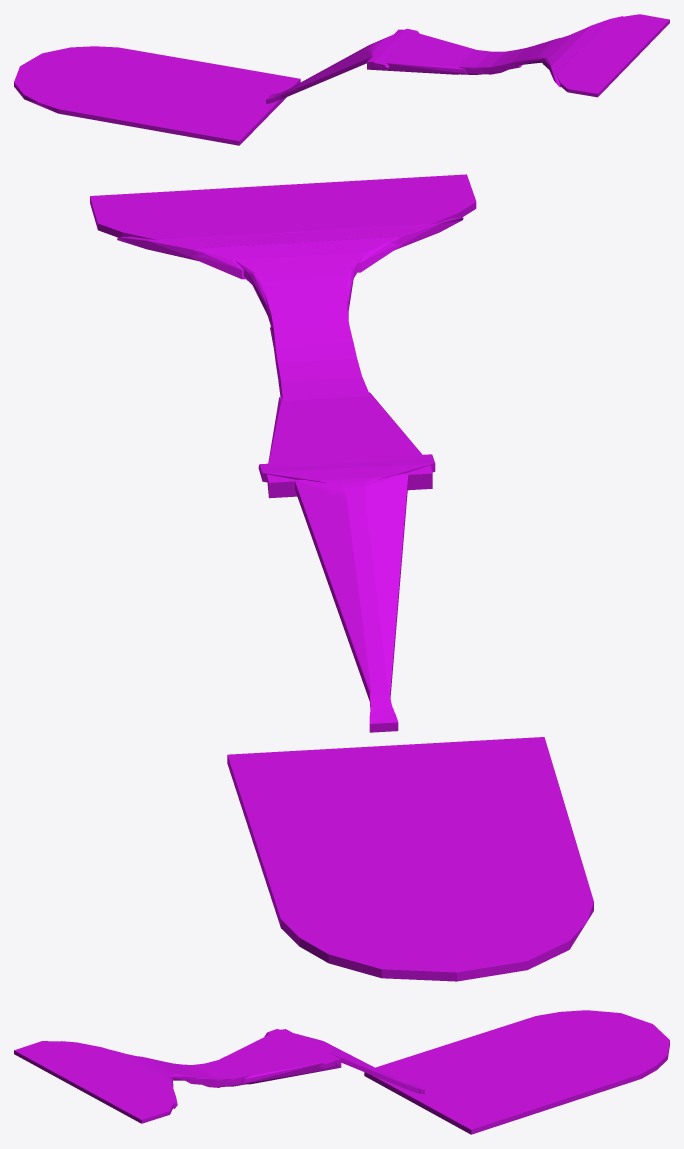
Rendered from hole-three-floor-v2_1.glb.
3 renders of one model, top to bottom at view 1: azimuth 30°, elevation 25°; view 2: azimuth 150°, elevation 25°; view 3: azimuth 270°, elevation 25°, orthographic. The views are drawn at different scales.
Visible parts, largest first — view 1: BlueWhale Green.021, BlueWhale Hole.003, BlueWhale Hole.016, BlueWhale Hole.021, BlueWhale Hole.004, BlueWhale Hole.022, BlueWhale Hole.013, BlueWhale Hole.005, BlueWhale Hole.012, BlueWhale Hole.007, BlueWhale Hole.006, BlueWhale Hole.011; view 2: BlueWhale Green.021, BlueWhale Hole.003, BlueWhale Hole.021, BlueWhale Hole.016, BlueWhale Hole.004, BlueWhale Hole.005, BlueWhale Hole.022, BlueWhale Hole.007, BlueWhale Hole.006, BlueWhale Hole.013, BlueWhale Hole.012, BlueWhale Hole.008 (+3 smaller); view 3: BlueWhale Green.021, BlueWhale Hole.003, BlueWhale Hole.016, BlueWhale Hole.021, BlueWhale Hole.004, BlueWhale Hole.022, BlueWhale Hole.013, BlueWhale Hole.005, BlueWhale Hole.012, BlueWhale Hole.007, BlueWhale Hole.006, BlueWhale Hole.010 (+1 smaller).
Boxes of the visible parts, x1,y1,x2,y2 form: BlueWhale Green.021: (14,46,300,145); BlueWhale Hole.003: (556,14,669,97); BlueWhale Hole.016: (367,29,474,74); BlueWhale Hole.021: (280,36,389,99); BlueWhale Hole.004: (549,16,623,87); BlueWhale Hole.022: (373,28,419,68); BlueWhale Hole.013: (458,49,490,74); BlueWhale Hole.005: (542,26,590,69); BlueWhale Hole.012: (476,51,504,74); BlueWhale Hole.007: (523,38,559,64); BlueWhale Hole.006: (539,34,572,62); BlueWhale Hole.011: (489,50,515,74); BlueWhale Green.021: (227,737,593,981); BlueWhale Hole.003: (90,174,476,240); BlueWhale Hole.021: (294,473,408,700); BlueWhale Hole.016: (267,392,432,498); BlueWhale Hole.004: (117,217,463,261); BlueWhale Hole.005: (191,236,401,279); BlueWhale Hole.022: (258,454,435,482); BlueWhale Hole.007: (248,266,354,315); BlueWhale Hole.006: (235,252,364,284); BlueWhale Hole.013: (278,377,370,401); BlueWhale Hole.012: (275,357,362,381); BlueWhale Hole.008: (265,292,348,325); BlueWhale Green.021: (364,1010,669,1134); BlueWhale Hole.003: (14,1041,173,1123); BlueWhale Hole.016: (220,1029,341,1084); BlueWhale Hole.021: (307,1036,410,1090); BlueWhale Hole.004: (60,1041,177,1108); BlueWhale Hole.022: (264,1029,335,1068); BlueWhale Hole.013: (205,1059,249,1086); BlueWhale Hole.005: (102,1047,173,1087); BlueWhale Hole.012: (192,1063,232,1087); BlueWhale Hole.007: (139,1056,187,1080); BlueWhale Hole.006: (125,1053,173,1080); BlueWhale Hole.010: (173,1063,207,1084).
Bounding box in the file's own units: 21.76 × 5.65 × 25.47.
